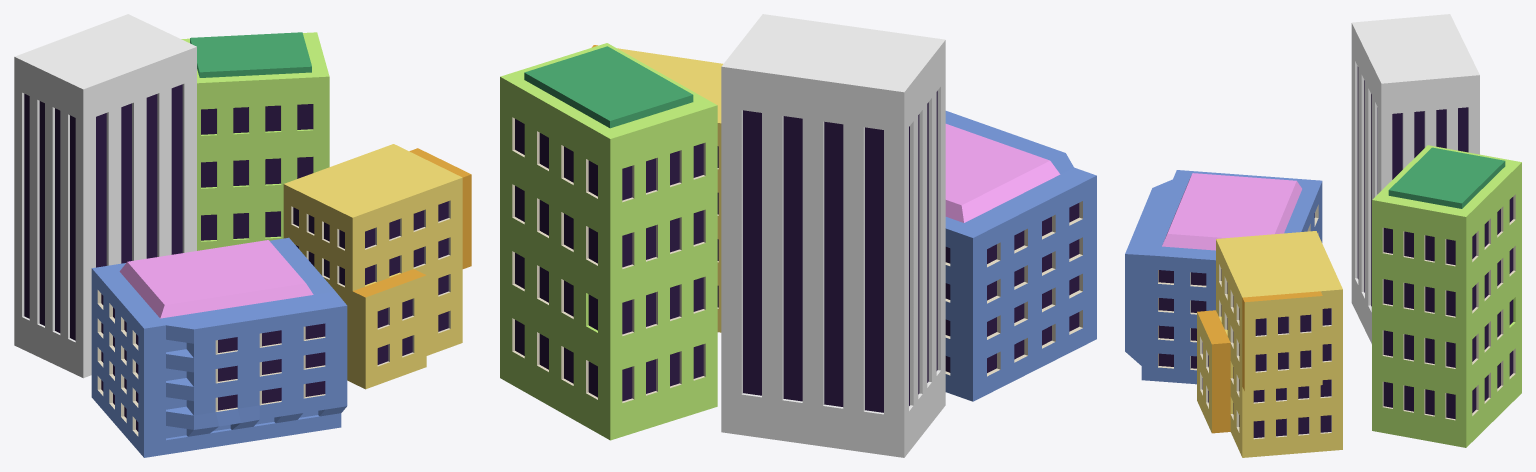
The model's file is M_OfficeTile_Var1.fbx.
The picture shows the model from 3 angles, left to right: view 1: azimuth 30°, elevation 25°; view 2: azimuth 150°, elevation 25°; view 3: azimuth 270°, elevation 25°; orthographic projection. The views are drawn at different scales.
Parts seen in each view (by area): view 1: pCube7; view 2: pCube7; view 3: pCube7.
Boxes of the visible parts, left/top/right/bottom form: pCube7: left=14, top=14, right=471, bottom=457; pCube7: left=500, top=14, right=1096, bottom=457; pCube7: left=1125, top=14, right=1521, bottom=457.
Size of the model in its own units: 1.47 by 1.14 by 1.43.
1 material, 1 textured.
